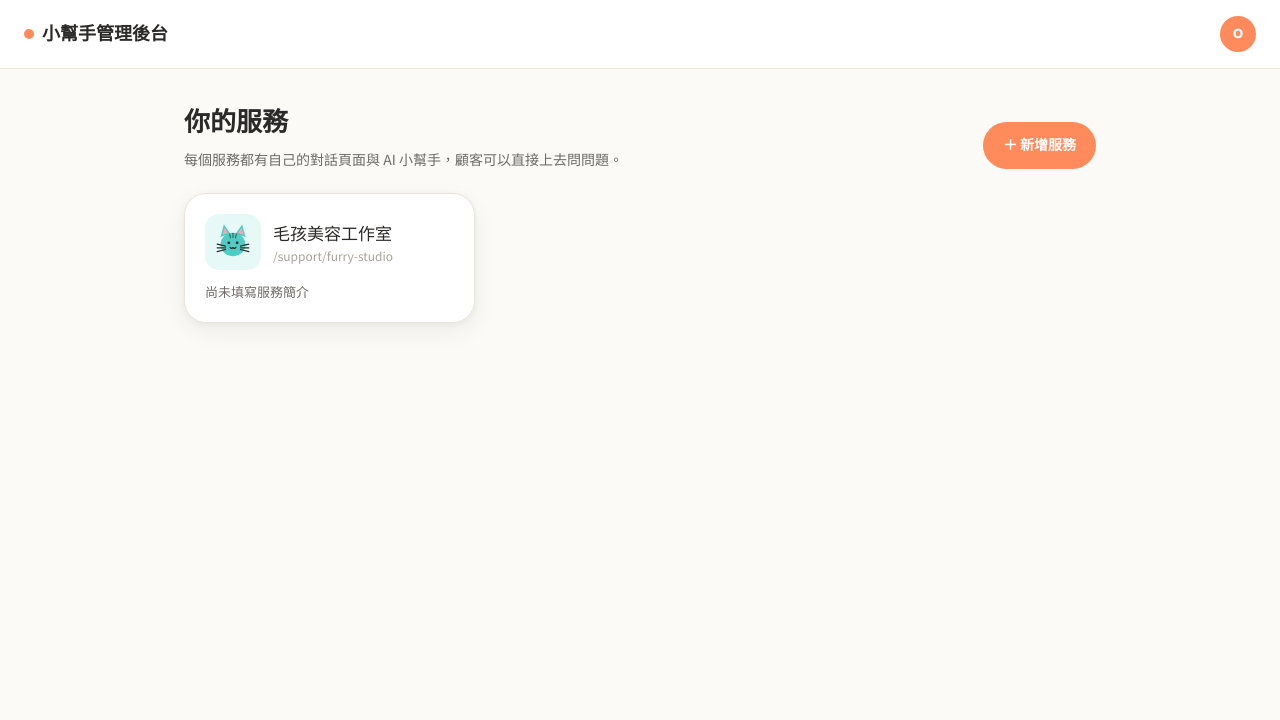
Test case: console: conversation history tab › lists conversations and shows the full message thread when opened
Click the text "毛孩美容工作室" at (333, 232), box [273,220,393,245]
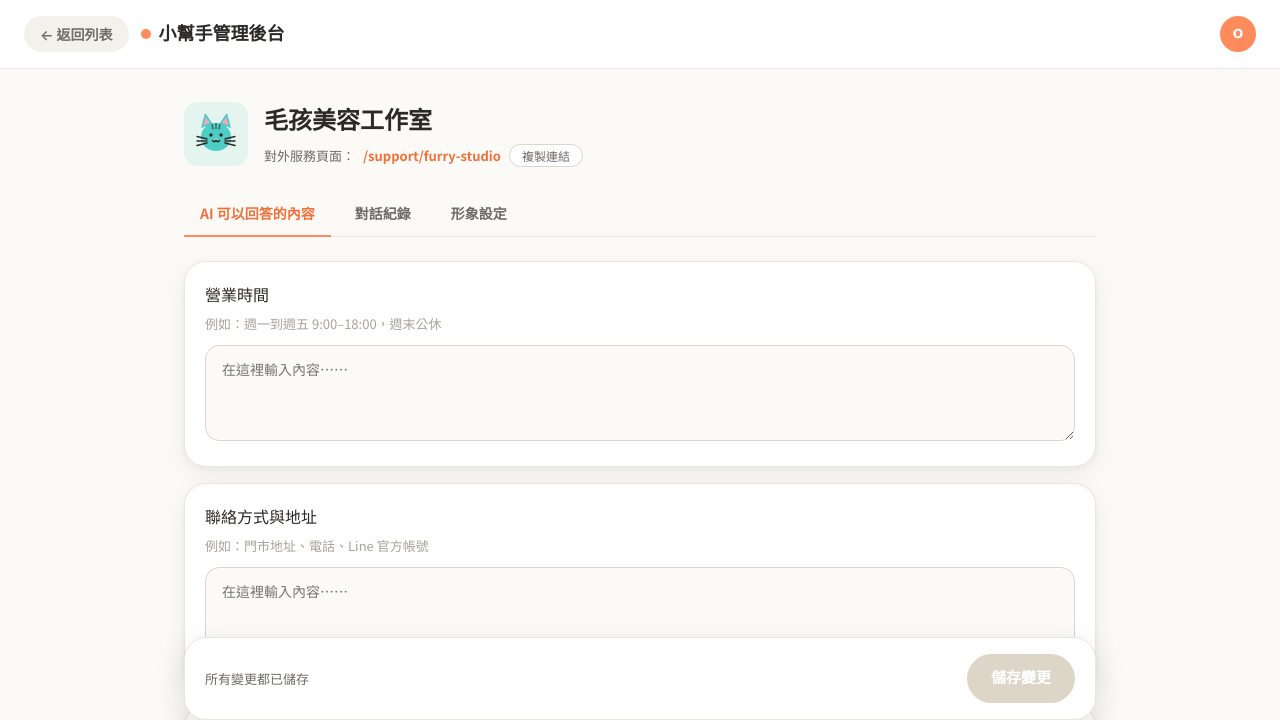
Check: the heading "毛孩美容工作室" is shown, box [264,103,432,142]
Click the button "對話紀錄" at (383, 214), box [339,191,427,237]
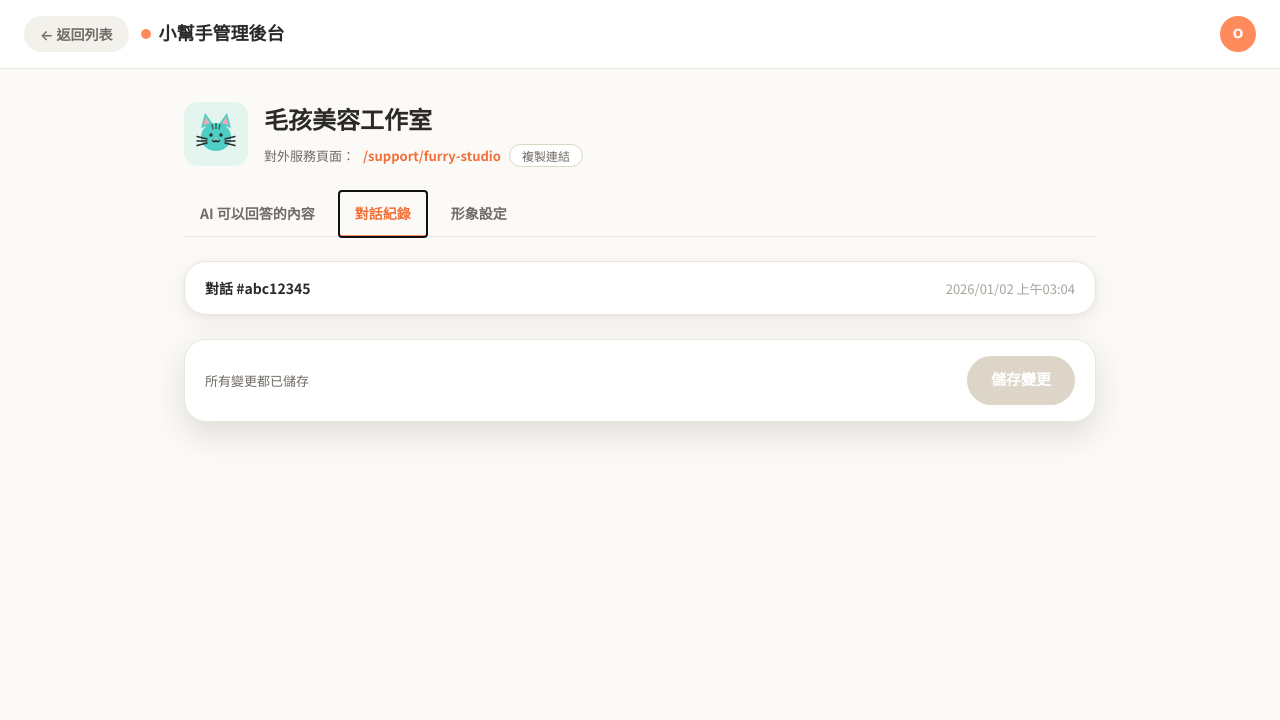
Check: the text "對話 #abc12345" is shown
Click the text "對話 #abc12345" at (258, 288), box [205,278,310,298]
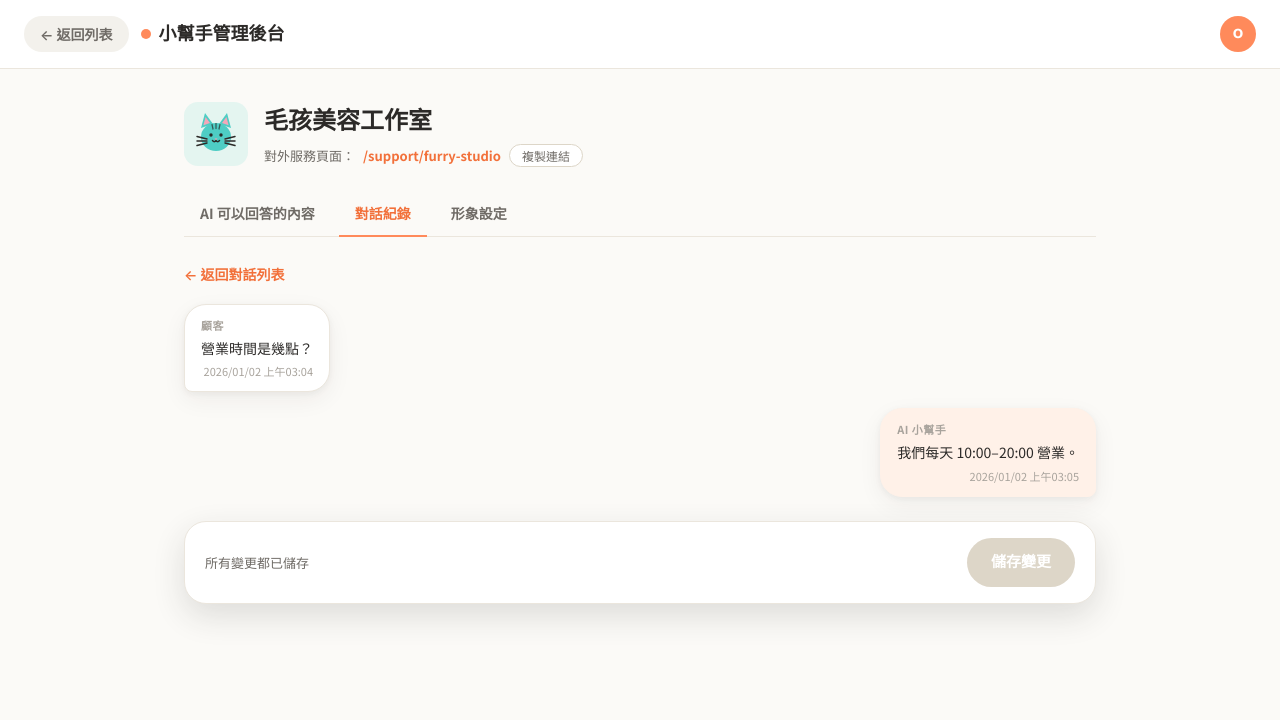
Check: the text "營業時間是幾點？" is shown, box [201,337,313,359]
Check: the text "我們每天 10:00–20:00 營業。" is shown, box [897,441,1079,464]
Check: the text "顧客" is shown, box [201,317,224,333]
Click the button "← 返回對話列表" at (234, 274), box [184,264,284,284]
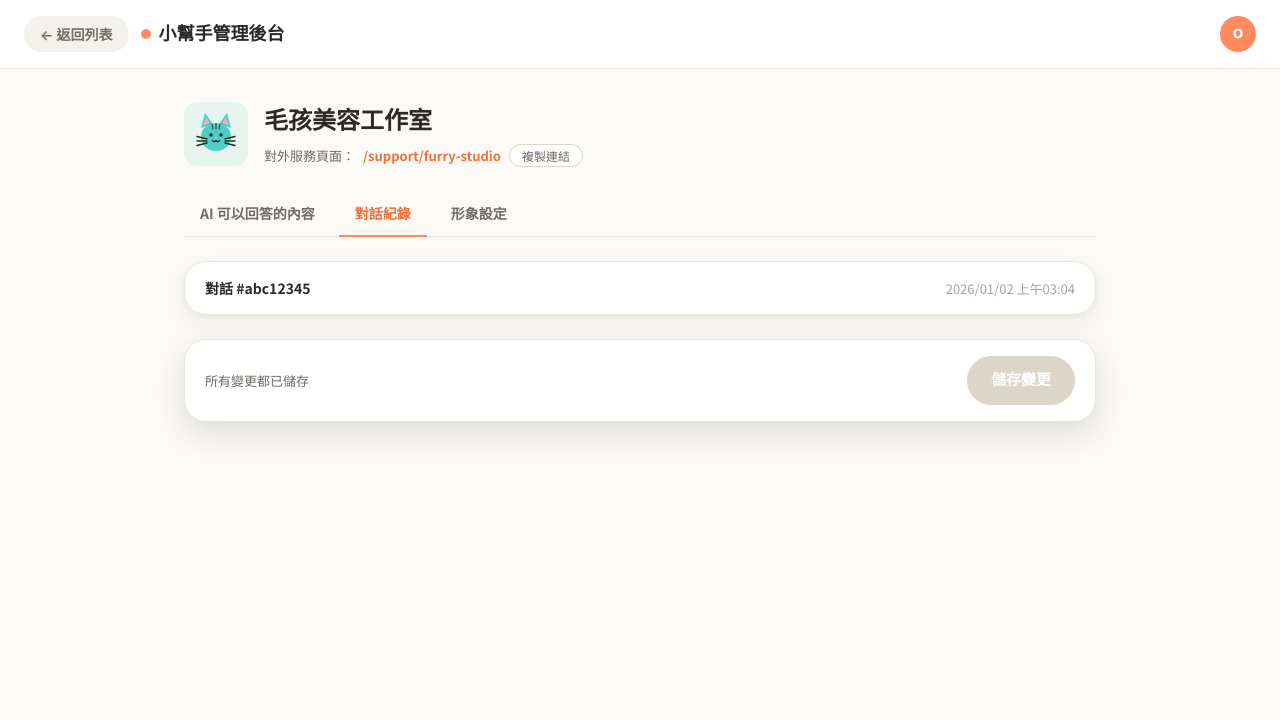
Check: the text "對話 #abc12345" is shown, box [205,278,310,298]
